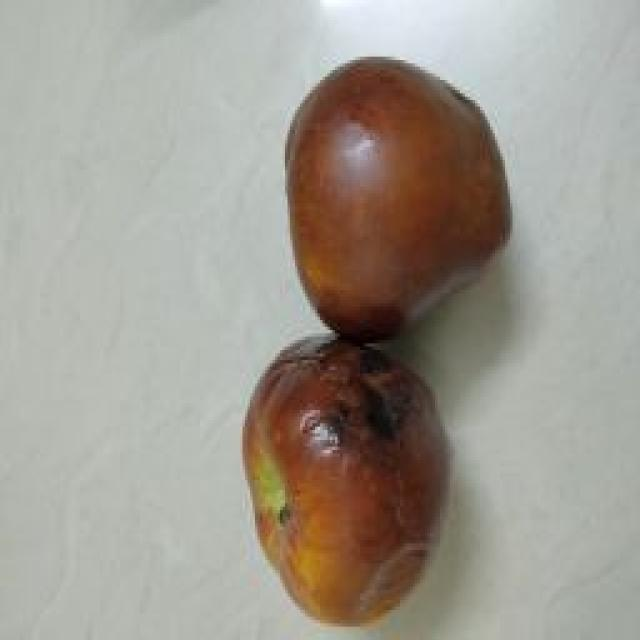Bad_Apple: (285, 57, 511, 339), (245, 340, 449, 624)
